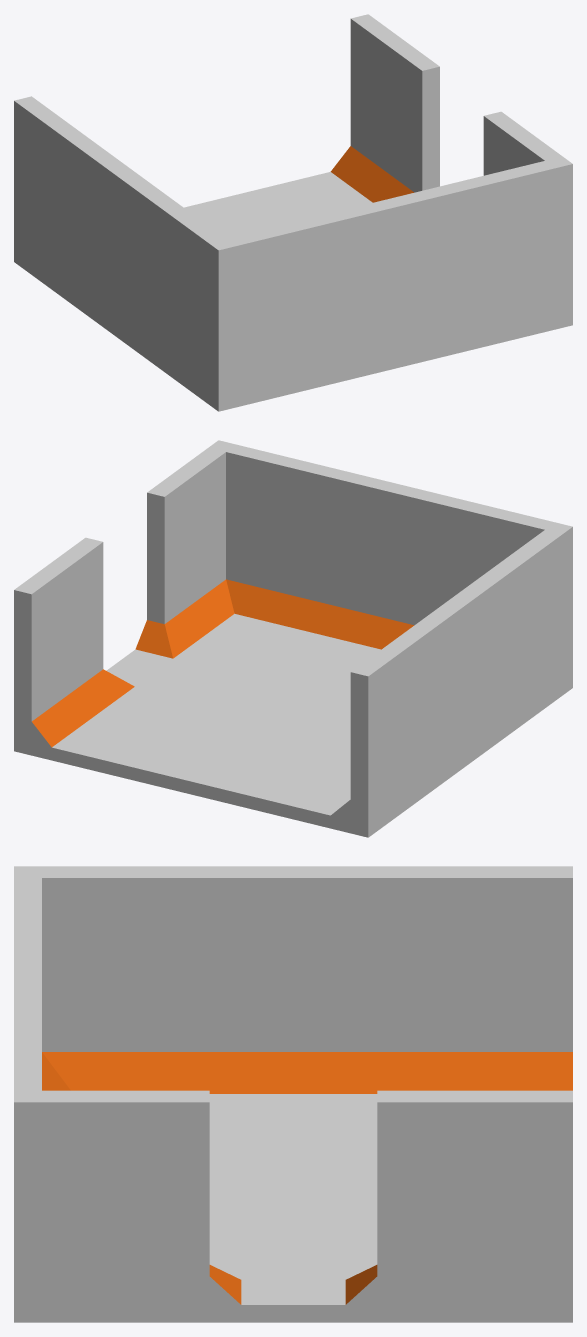
Rendered from 3-wall-1-Door-N-L.fbx.
3 views of the same model, one above another, from view 1: azimuth 30°, elevation 25°; view 2: azimuth 150°, elevation 25°; view 3: azimuth 270°, elevation 25° (orthographic). The views are drawn at different scales.
Visible parts, largest first — view 1: Плоскость.024; view 2: Плоскость.024; view 3: Плоскость.024.
Boxes of the visible parts, bbox=[...] form: Плоскость.024: bbox=[14, 14, 572, 411]; Плоскость.024: bbox=[14, 440, 572, 837]; Плоскость.024: bbox=[14, 866, 572, 1322].
Size of the model in its own units: 200 by 87 by 200.
